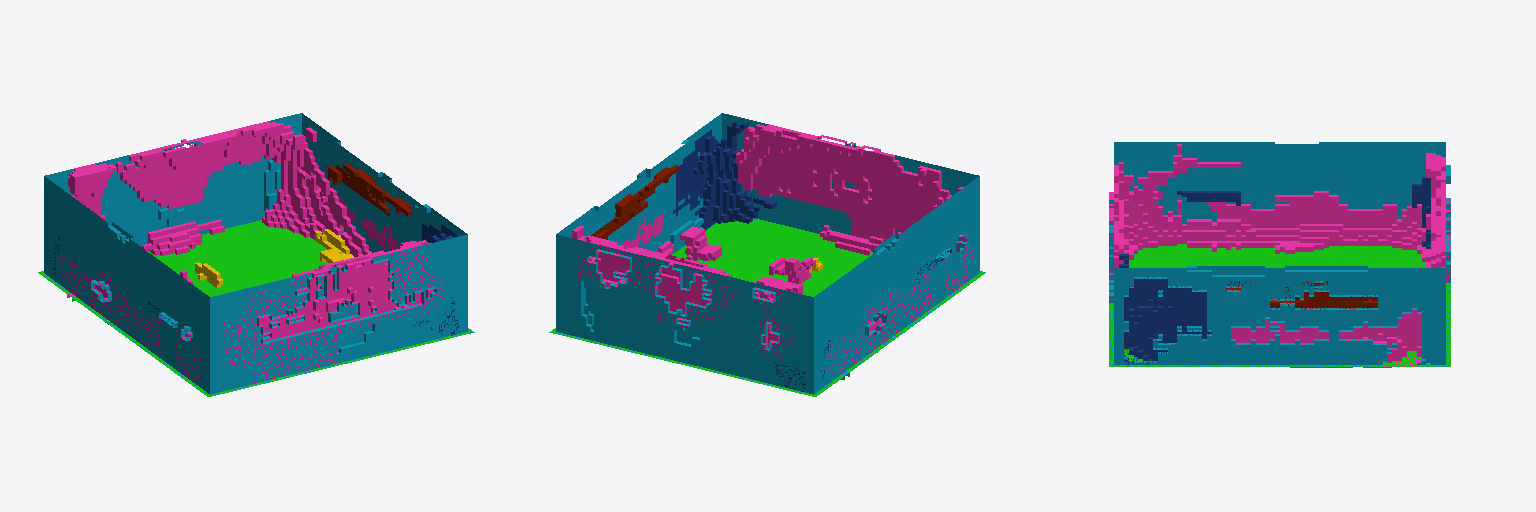
Rendered from Input_prediction.obj.
The picture shows the model from 3 angles: view 1: azimuth 30°, elevation 25°; view 2: azimuth 150°, elevation 25°; view 3: azimuth 270°, elevation 25°; orthographic projection.
Parts seen in each view (by area): view 1: Cube; view 2: Cube; view 3: Cube.
Boxes of the visible parts, <box> form: Cube: <box>38,113,474,396</box>; Cube: <box>549,113,985,396</box>; Cube: <box>1109,142,1450,367</box>.
Size of the model in its own units: 5.04 by 1.84 by 5.6.